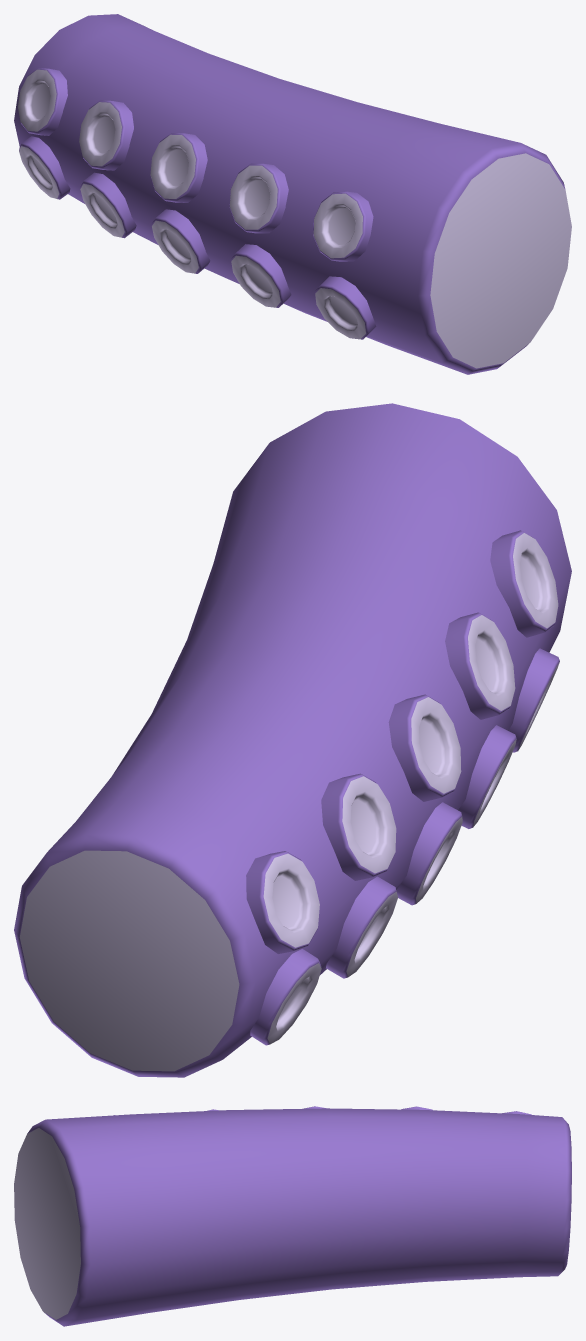
Rendered from Octopus_Tentacles_2_Piece_1.fbx.
The picture shows the model from 3 angles, top to bottom: view 1: azimuth 30°, elevation 25°; view 2: azimuth 150°, elevation 25°; view 3: azimuth 270°, elevation 25°; orthographic projection. The views are drawn at different scales.
Visible parts, largest first — view 1: Octopus_Tentacles_2_Piece_1; view 2: Octopus_Tentacles_2_Piece_1; view 3: Octopus_Tentacles_2_Piece_1.
Boxes of the visible parts, x1,y1,x2,y2 form: Octopus_Tentacles_2_Piece_1: (14, 14, 571, 374); Octopus_Tentacles_2_Piece_1: (14, 403, 571, 1077); Octopus_Tentacles_2_Piece_1: (14, 1106, 571, 1326).
Size of the model in its own units: 17.9 by 12.29 by 32.95.
